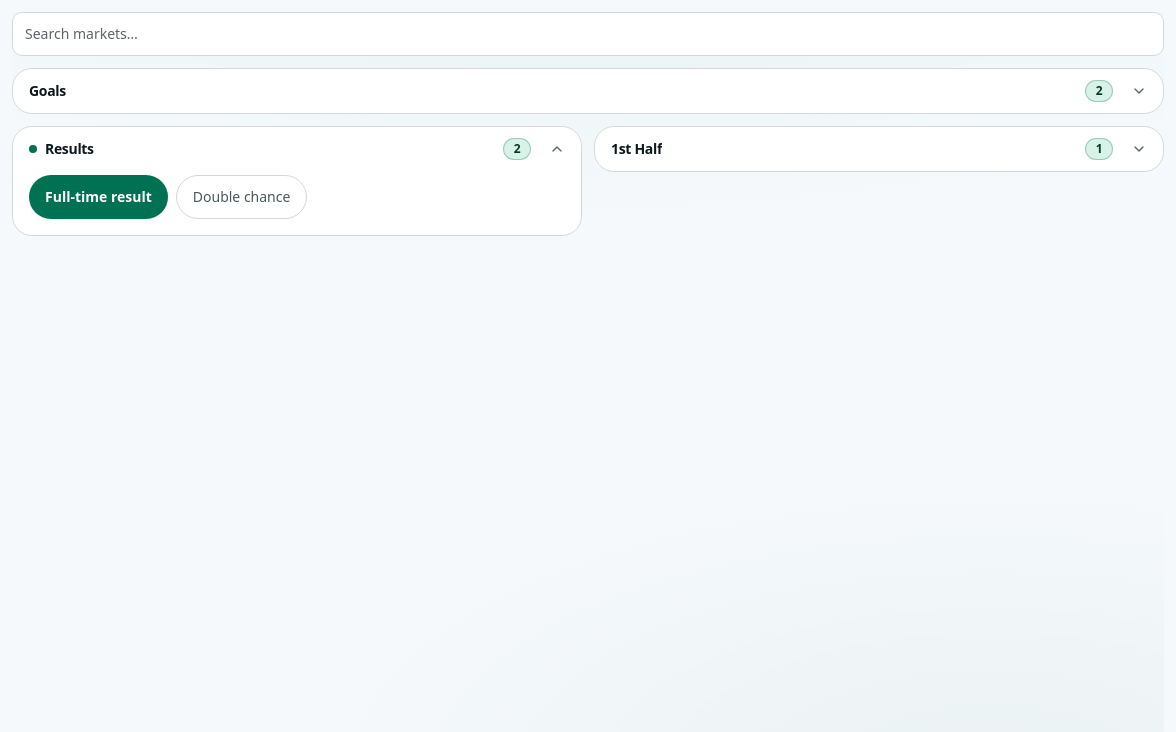
Test case: MarketSelector › shows an empty state without matches
In the search field with placeholder "Search markets…": (588, 34) [12,12,1164,56], type "zzz"
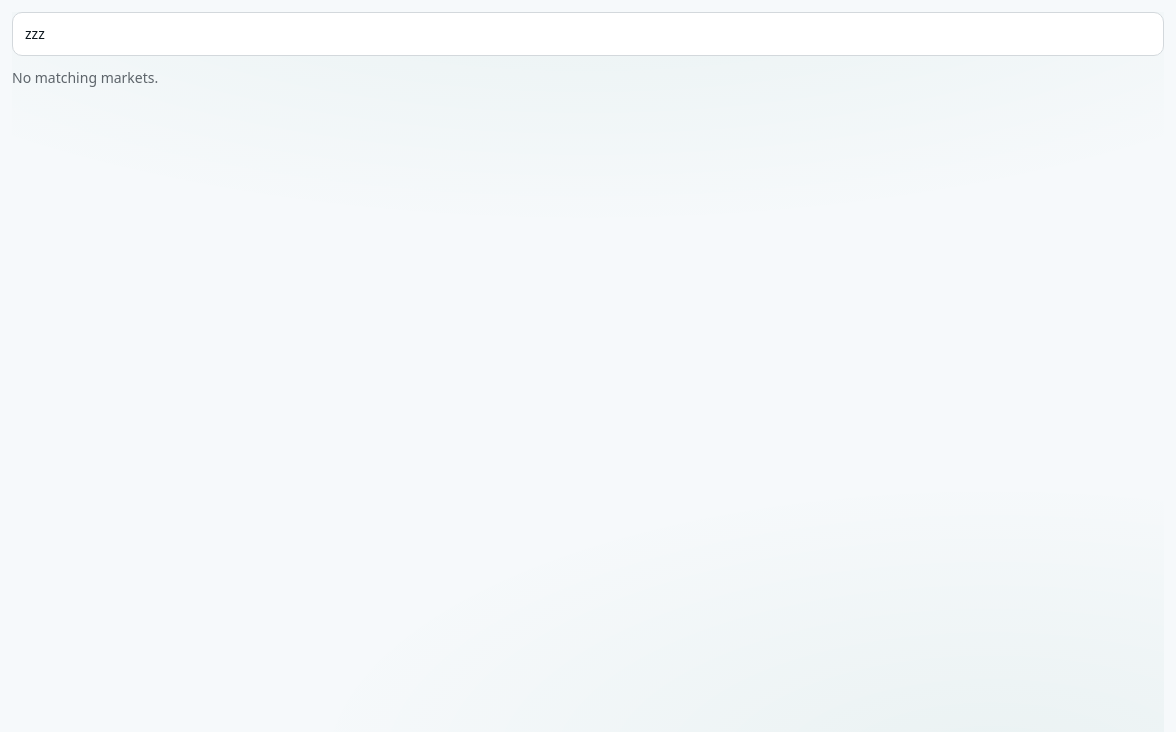
Expected: the text "No matching markets." is shown, [12,68,158,87]
